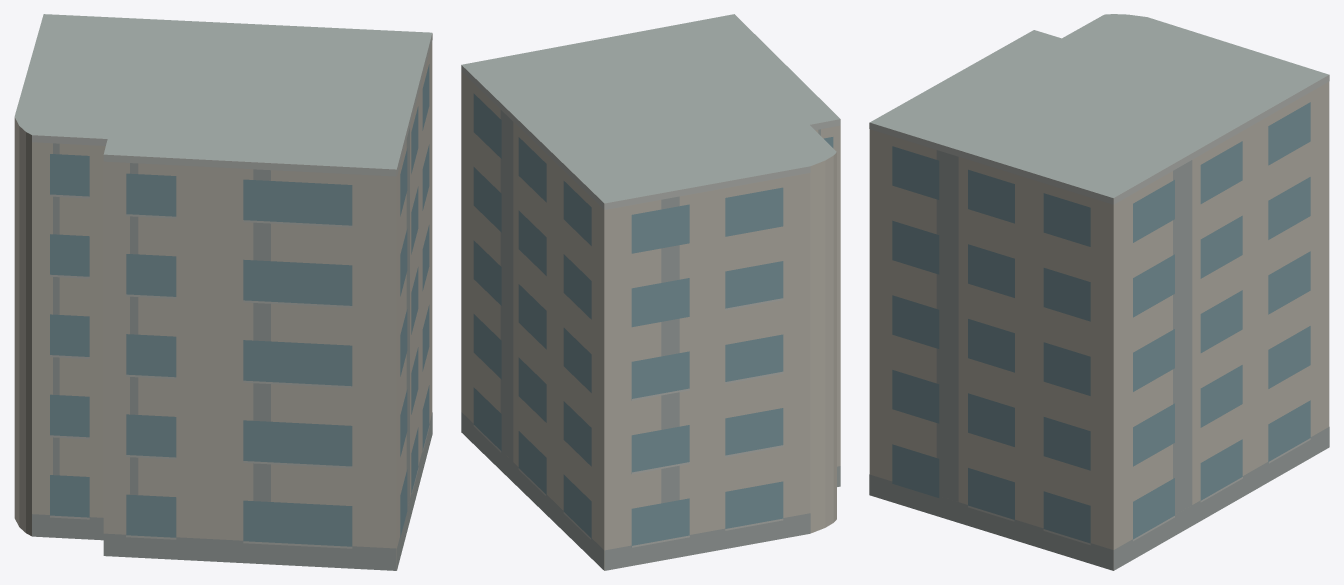
File: survey-upis-33047264.glb
3 renders of one model, left to right at view 1: azimuth 30°, elevation 25°; view 2: azimuth 150°, elevation 25°; view 3: azimuth 270°, elevation 25°, orthographic. The views are drawn at different scales.
Visible parts, largest first — view 1: survey-upis-33047264.tmp; view 2: survey-upis-33047264.tmp; view 3: survey-upis-33047264.tmp.
Boxes of the visible parts, x1,y1,x2,y2 form: survey-upis-33047264.tmp: [14, 14, 432, 570]; survey-upis-33047264.tmp: [461, 14, 840, 570]; survey-upis-33047264.tmp: [869, 14, 1329, 570].
Size of the model in its own units: 14.64 by 13.8 by 15.44.
